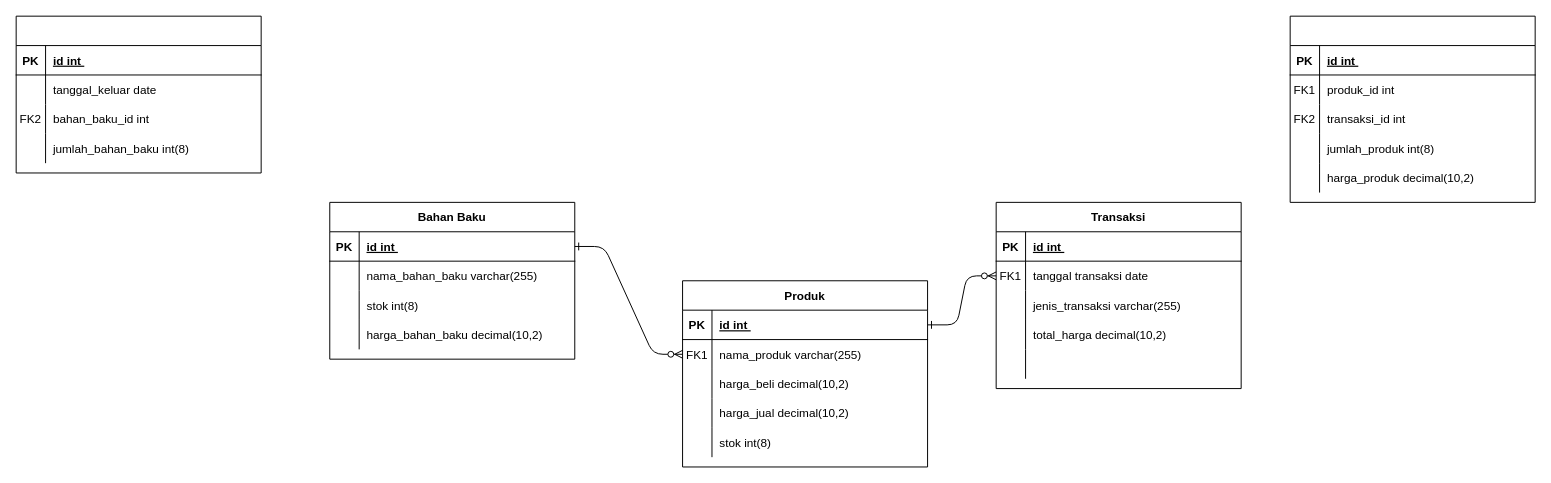
Image size: 1551x483. Some labels were removed from this diagram. The shapes that lost their labels are listed below. From the top down, each one's box as (x1, y1, x2, y2) in pixels, then its label:
(15, 15, 261, 173): Pengeluaran Bahan
(1289, 15, 1535, 202): Detail Transaksi
